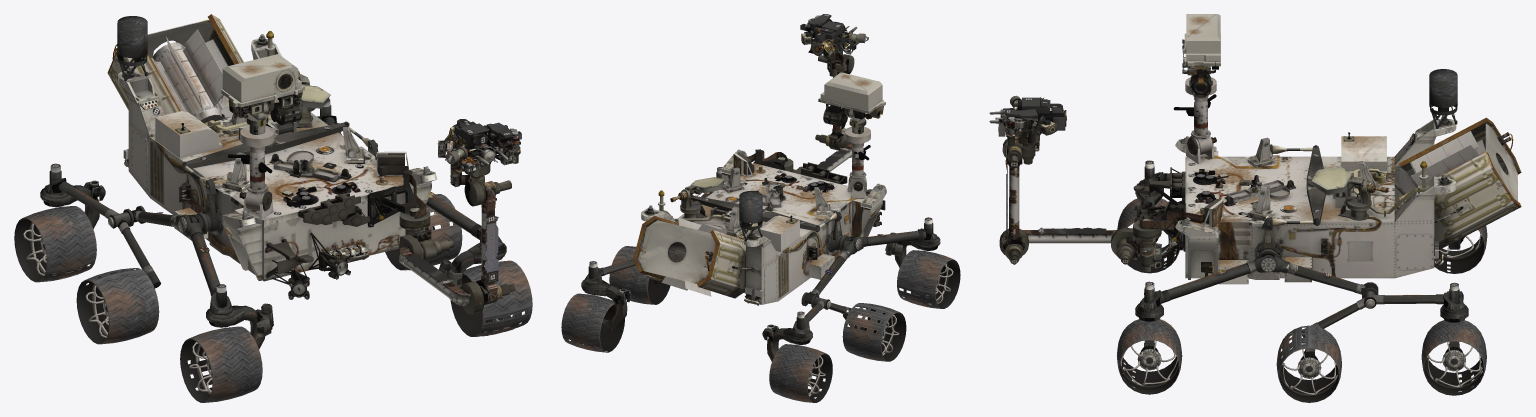
Rendered from rover.glb.
3 views of the same model, side by side, from view 1: azimuth 30°, elevation 25°; view 2: azimuth 150°, elevation 25°; view 3: azimuth 270°, elevation 25° (orthographic). The views are drawn at different scales.
Visible parts, largest first — view 1: MSL; view 2: MSL; view 3: MSL.
Boxes of the visible parts, left/top/right/bottom form: MSL: left=14, top=14, right=532, bottom=402; MSL: left=561, top=14, right=960, bottom=402; MSL: left=989, top=14, right=1521, bottom=402.
Bounding box in the file's own units: 2.78 × 2.22 × 3.94.
Materials: 9 (8 with a texture image).
